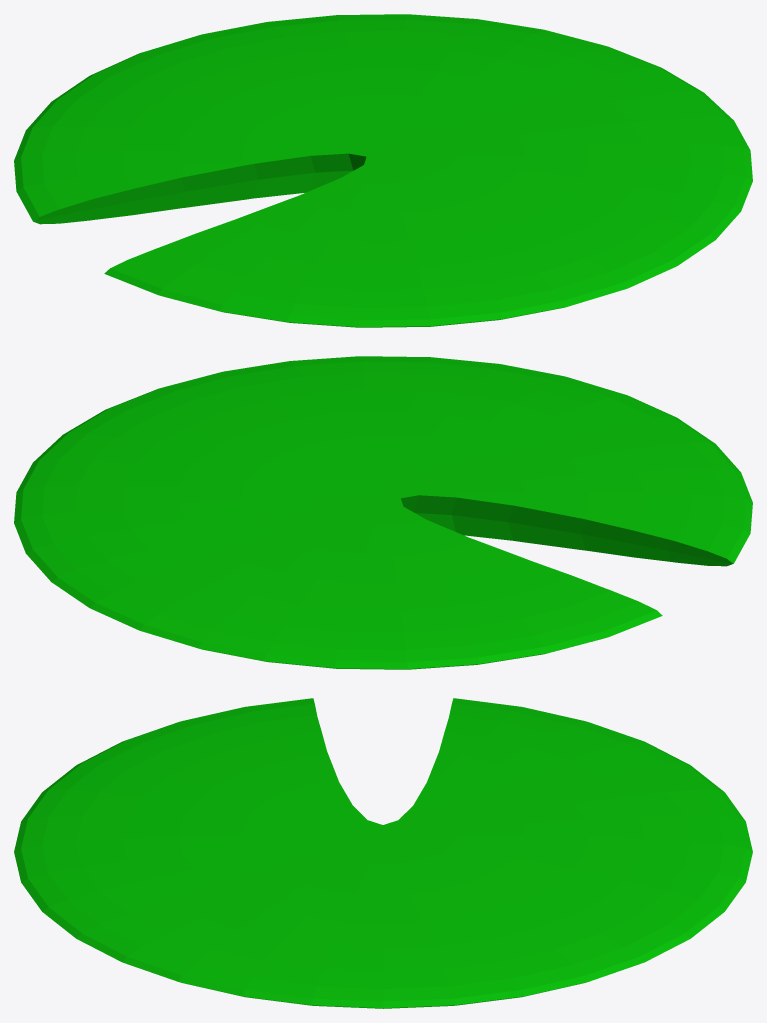
File: default_lily.fbx
The picture shows the model from 3 angles, top to bottom: view 1: azimuth 30°, elevation 25°; view 2: azimuth 150°, elevation 25°; view 3: azimuth 270°, elevation 25°; orthographic projection.
Parts seen in each view (by area): view 1: Sphere.004; view 2: Sphere.004; view 3: Sphere.004.
Part boxes in pixels (<box>): Sphere.004: <box>14,14,752,327</box>; Sphere.004: <box>14,356,752,669</box>; Sphere.004: <box>14,698,752,1008</box>.
Size of the model in its own units: 991 by 55.92 by 1000.
